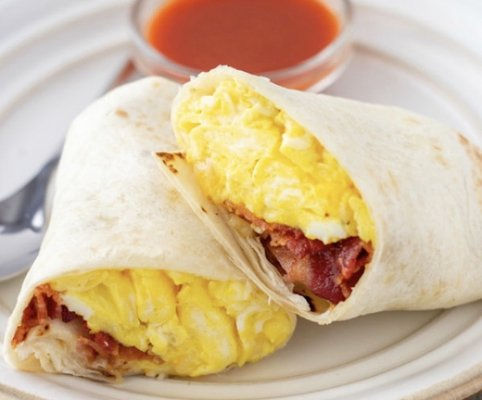soup: (3, 72, 303, 380), (167, 65, 481, 327)
sushi: (127, 1, 354, 93)
